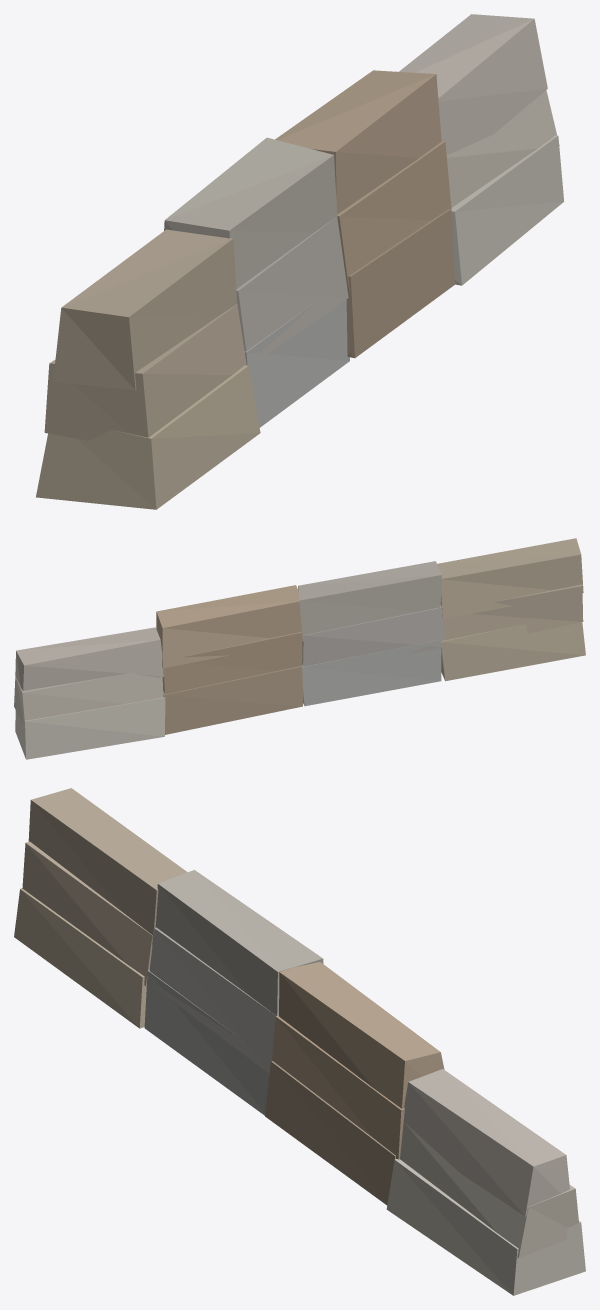
The model's file is farm_-1_-1_mid.glb.
3 renders of one model, top to bottom at view 1: azimuth 30°, elevation 25°; view 2: azimuth 150°, elevation 25°; view 3: azimuth 270°, elevation 25°, orthographic. The views are drawn at different scales.
Parts seen in each view (by area): view 1: geometry_0; view 2: geometry_0; view 3: geometry_0.
Part boxes in pixels (x1,y1,x2,y2): geometry_0: [36, 14, 564, 509]; geometry_0: [14, 538, 585, 759]; geometry_0: [14, 788, 585, 1295].
Bounding box in the file's own units: 5.41 × 2.02 × 4.57.
